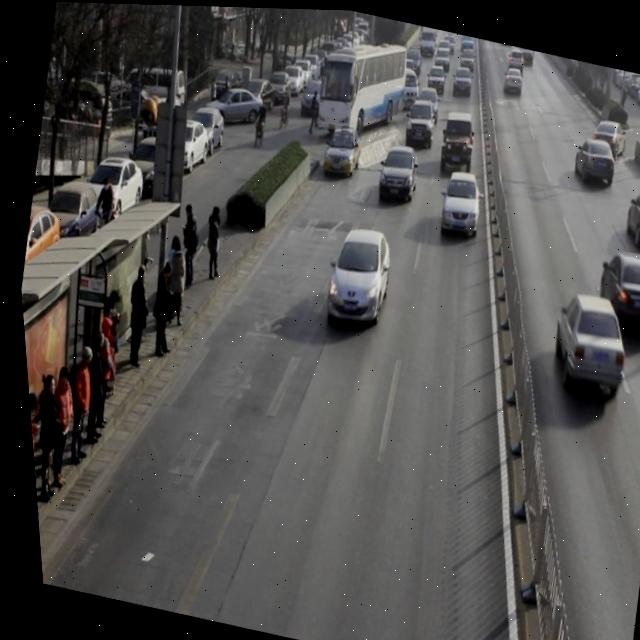car: (540, 282, 636, 398), (314, 219, 396, 332), (585, 240, 640, 337), (433, 164, 486, 238), (432, 104, 481, 179), (371, 140, 423, 204), (567, 132, 619, 187), (318, 124, 365, 180), (399, 92, 439, 149), (587, 112, 629, 158), (618, 184, 640, 255), (450, 62, 474, 96), (424, 59, 448, 93)
van: (308, 31, 413, 143)
